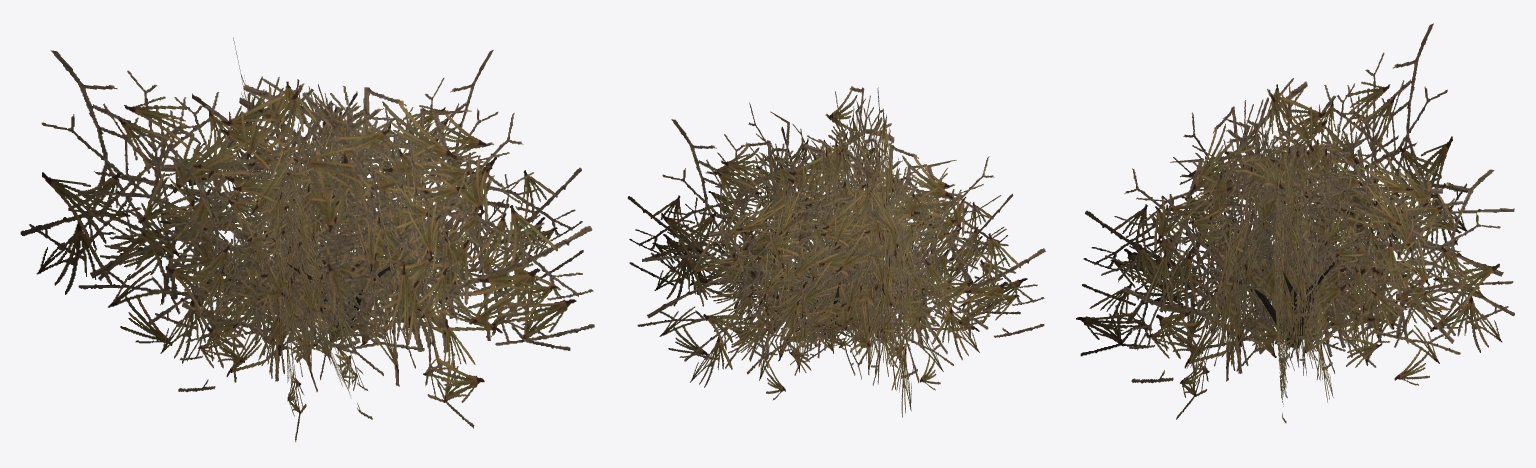
The model's file is plant_scrub_bush_a_v5.glb.
The picture shows the model from 3 angles, left to right: view 1: azimuth 30°, elevation 25°; view 2: azimuth 150°, elevation 25°; view 3: azimuth 270°, elevation 25°; orthographic projection. The views are drawn at different scales.
Parts seen in each view (by area): view 1: plant_scrub_bush_a_v5; view 2: plant_scrub_bush_a_v5; view 3: plant_scrub_bush_a_v5.
Boxes of the visible parts, box(x1,y1,x2,y2) form: plant_scrub_bush_a_v5: box(20, 37, 594, 441); plant_scrub_bush_a_v5: box(627, 86, 1045, 417); plant_scrub_bush_a_v5: box(1076, 23, 1514, 423).
Bounding box in the file's own units: 1.92 × 1.11 × 1.84.
Materials: 1 (1 with a texture image).
